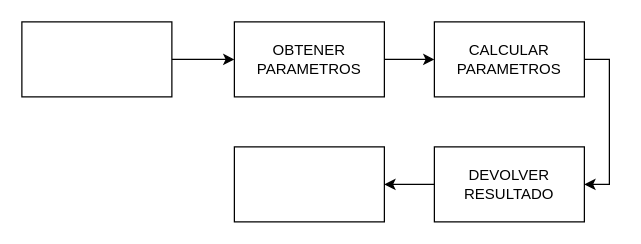
Image size: 641x244. Some labels were removed from this diagram. Here are the shapes that lost their labels. From the top down, the centre of each, then its label:
the point at 96,59: INICIO
the point at 308,184: FIN
